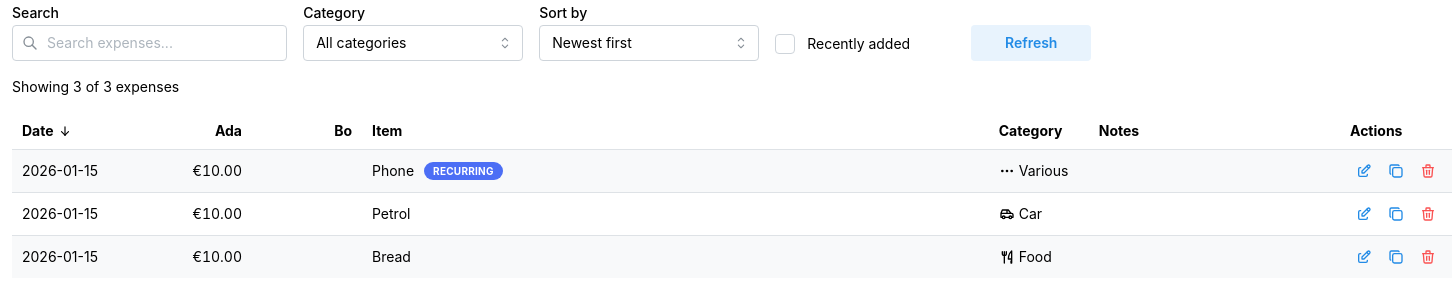
Test case: filtering › counts what was matched, not what is on screen
Type "petr" into the field labelled "Search" at (150, 43), box [12,25,287,61]
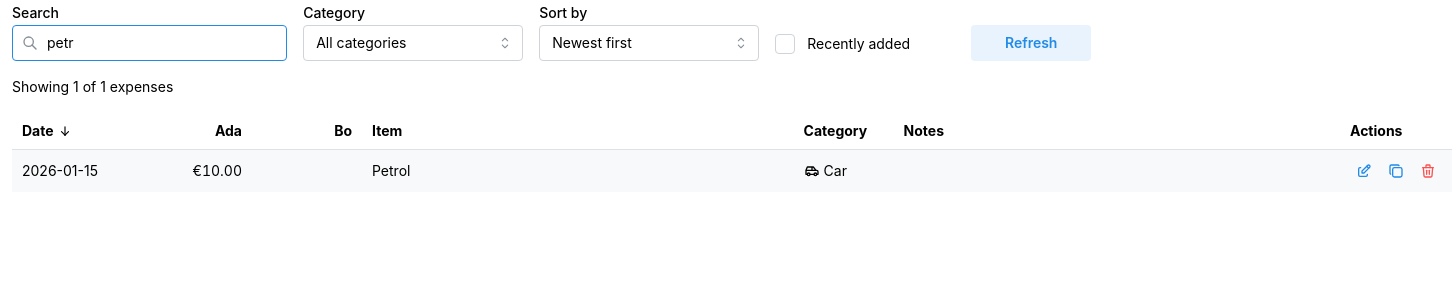
Result: the text "Showing 1 of 1 expenses" is shown at [12,78,173,95]
